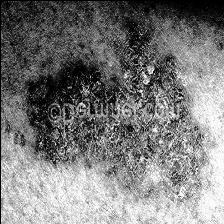Potentially Malignant Skin Tumors: (28, 56, 204, 204)
